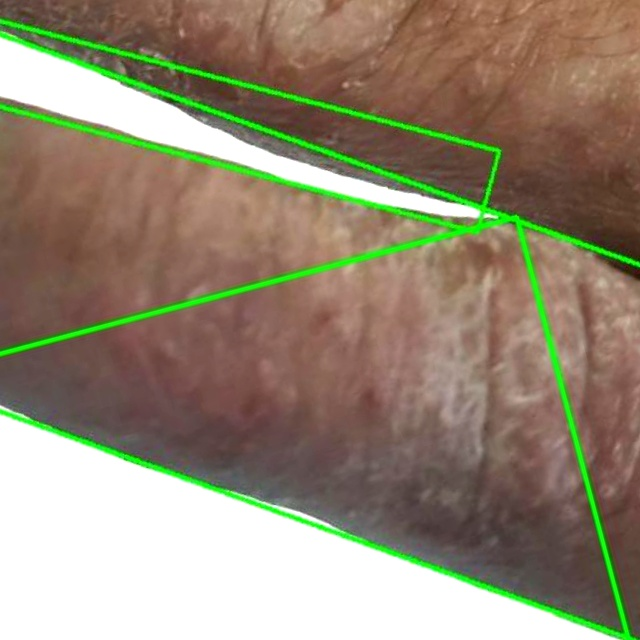Contact Dermatitis: (0, 74, 639, 601), (0, 216, 628, 639), (0, 21, 498, 232)
